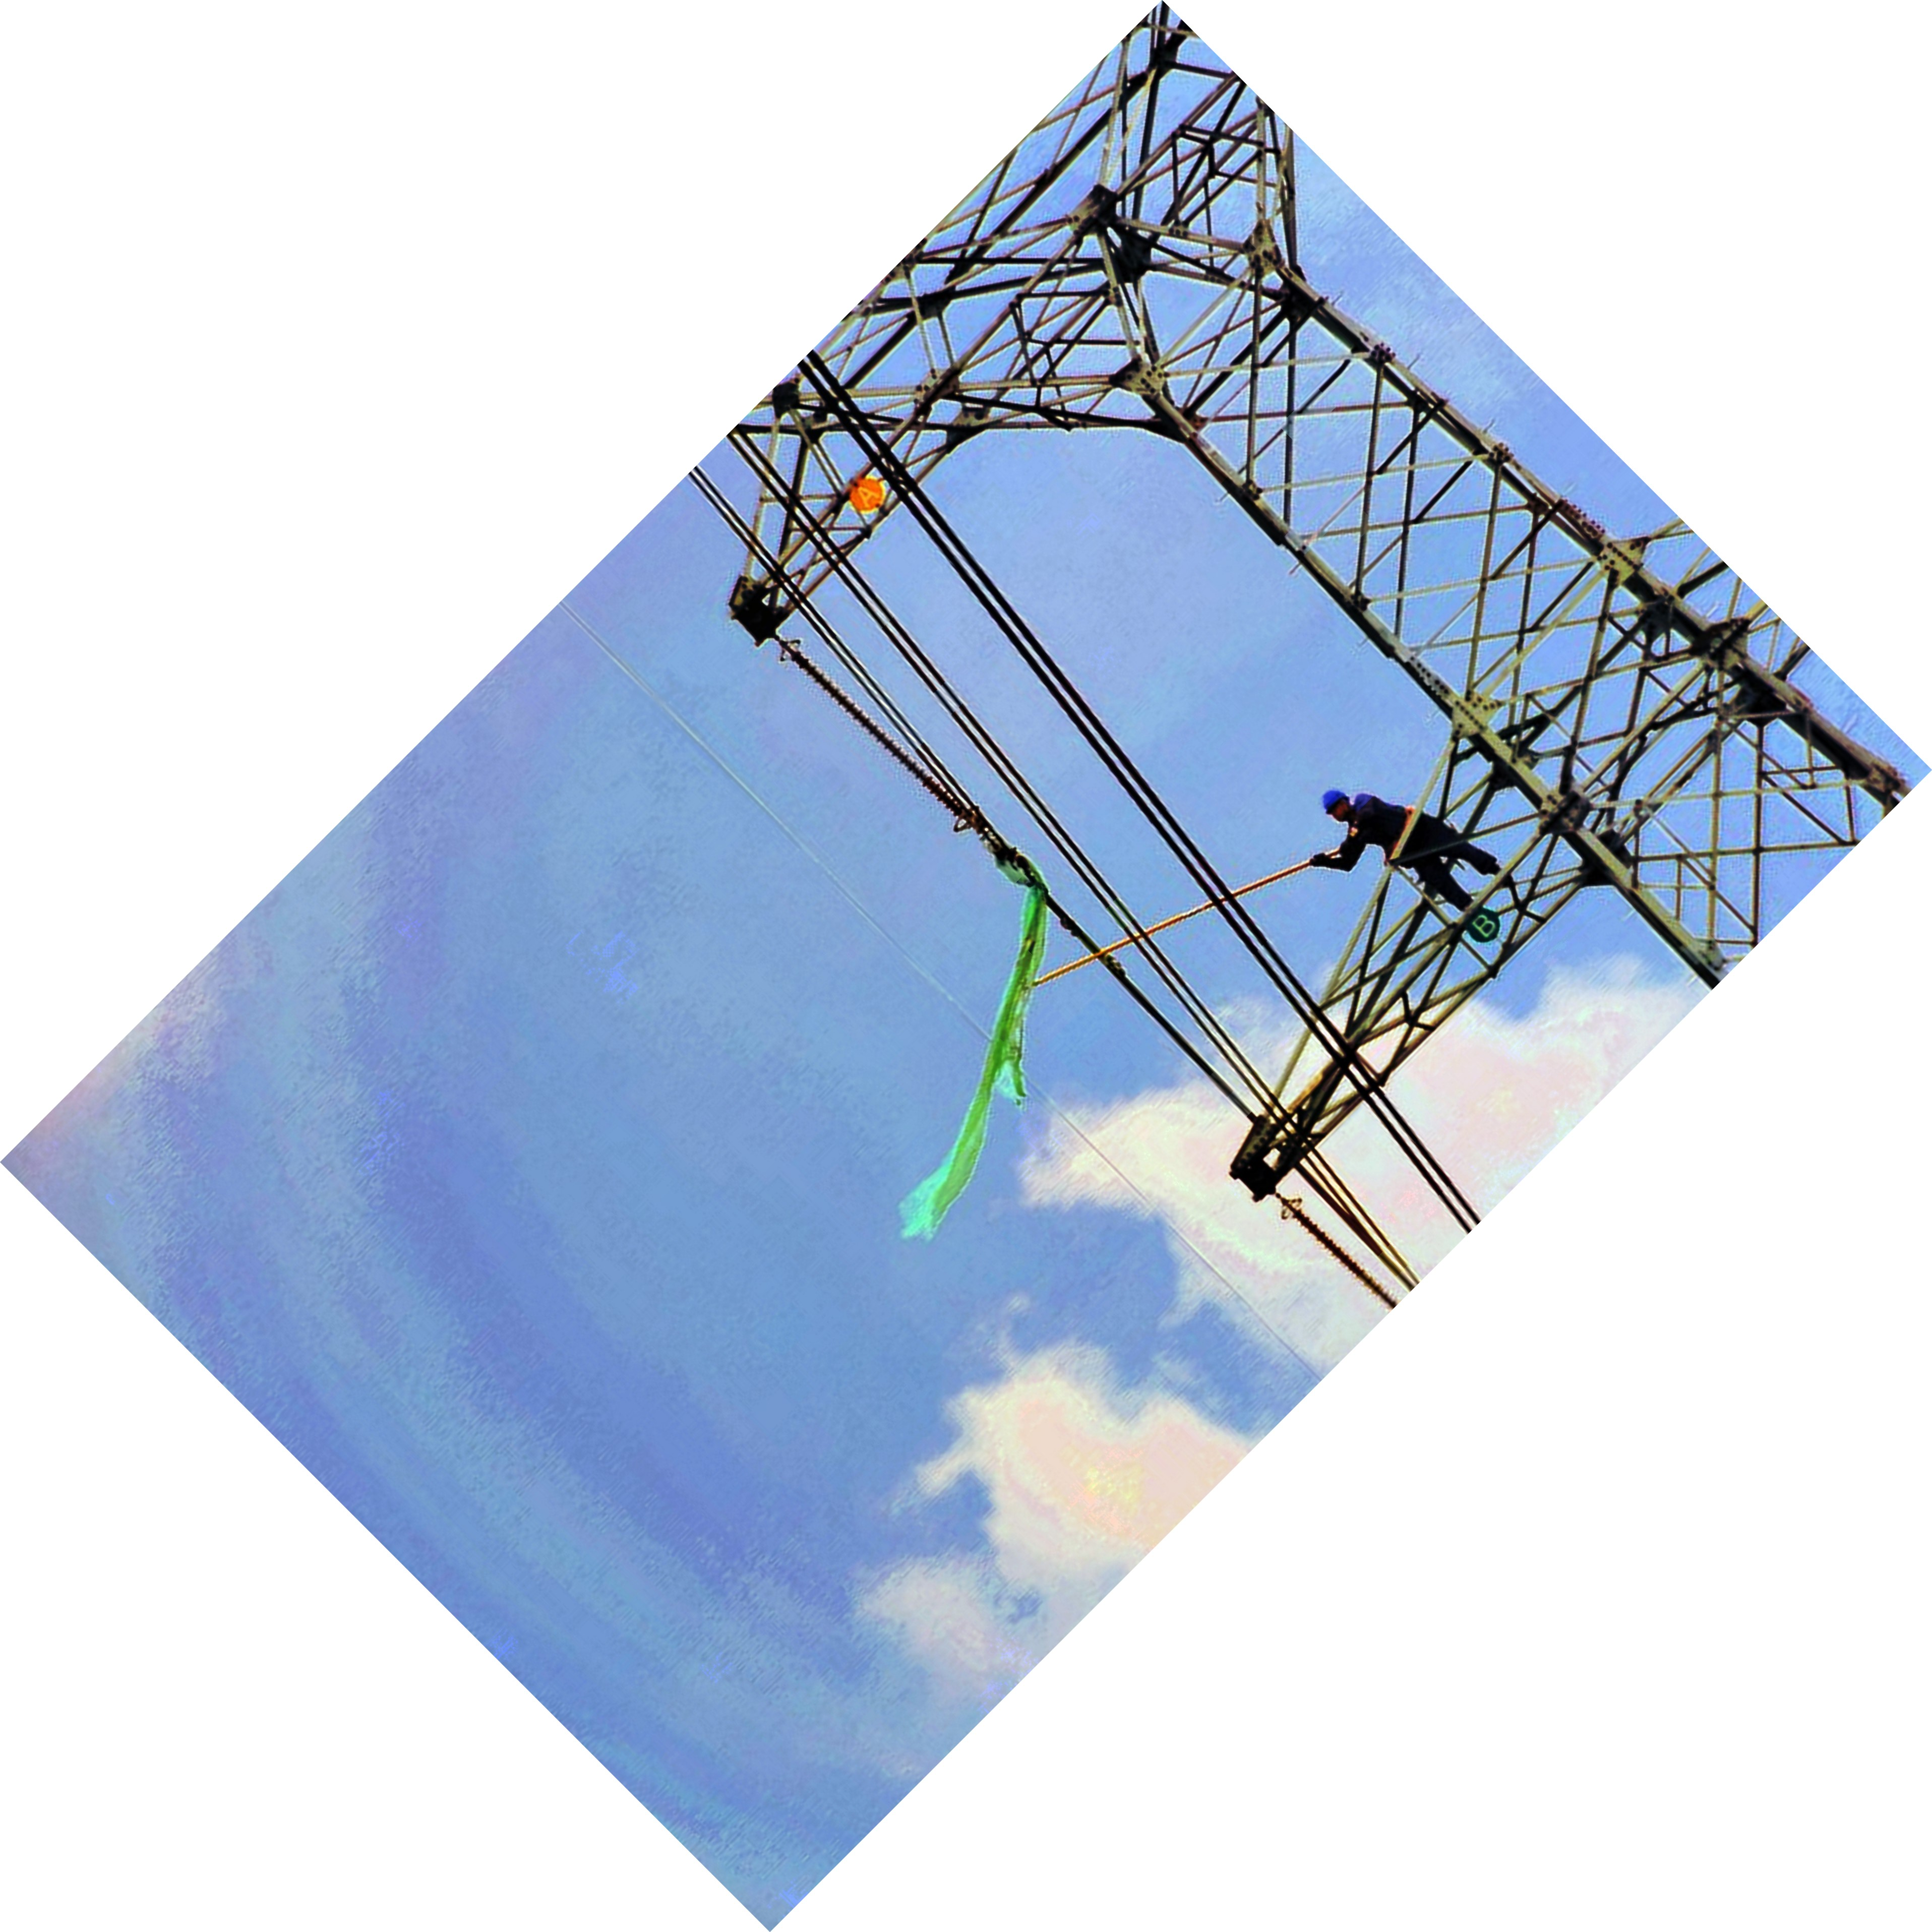wire foreign body: (869, 837, 1070, 1261)
